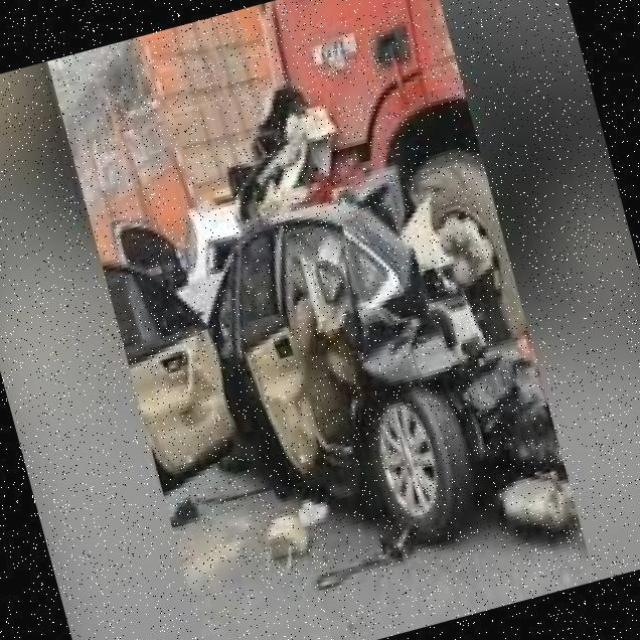accident: (116, 22, 583, 615)
